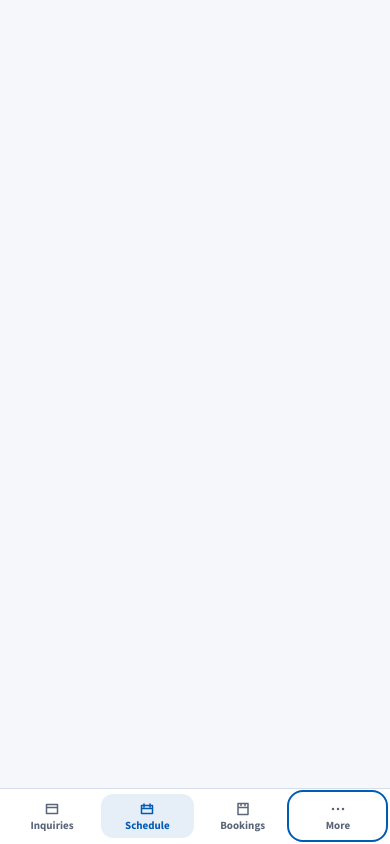
Test: EmployeeMobileNav › renders permitted primary links and keeps public intake in More
Check: the navigation bar named "Primary" is shown, box [0,788,389,843]
Check: the link "Bookings" is shown, box [220,801,265,833]
Click the button "More": (338, 816) [292,794,384,838]
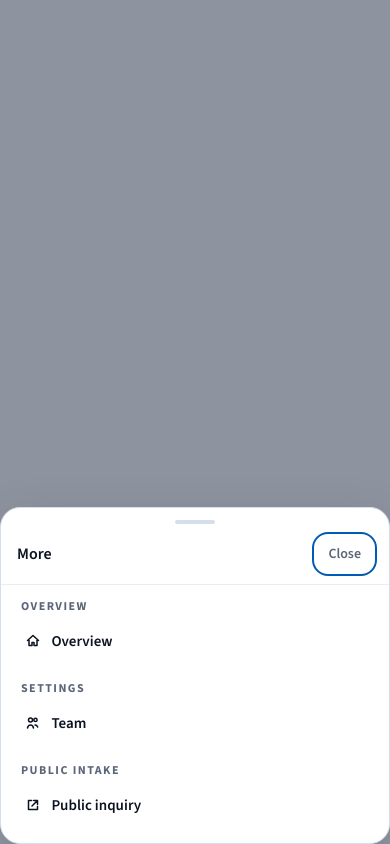
Check: the dialog "More" is shown, box [0,507,389,843]
Check: the link "Overview" is shown, box [25,631,112,651]
Check: the link "Team" is shown, box [25,713,86,733]
